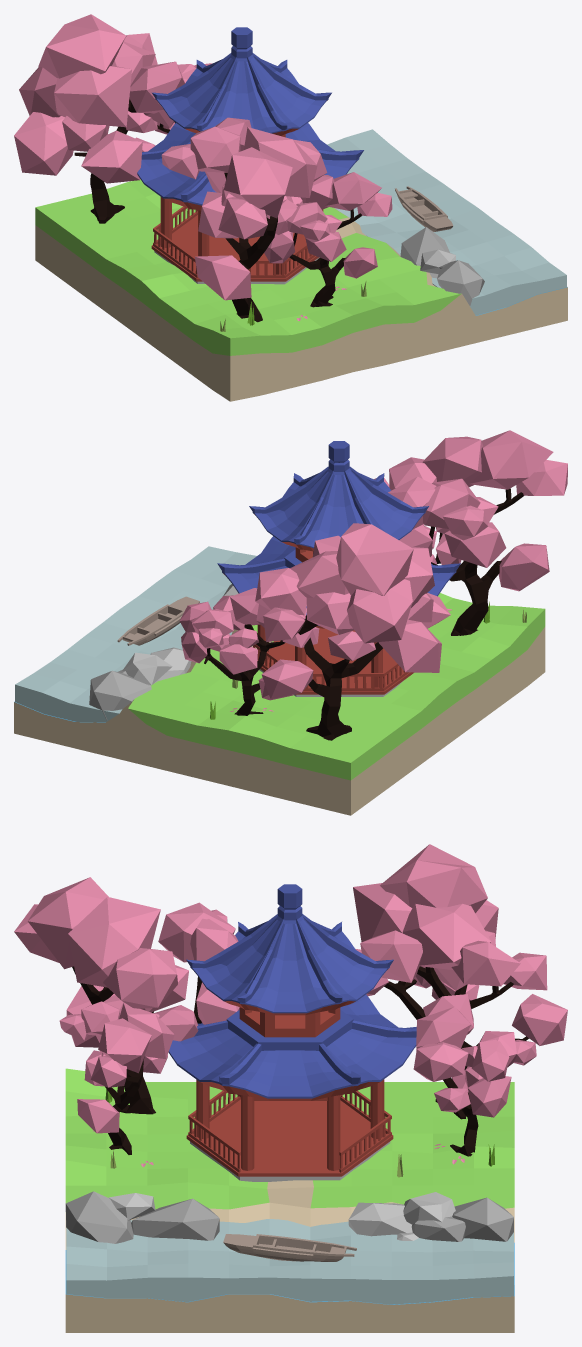
File: Spring 1.fbx
3 renders of one model, top to bottom at view 1: azimuth 30°, elevation 25°; view 2: azimuth 150°, elevation 25°; view 3: azimuth 270°, elevation 25°, orthographic. The views are drawn at different scales.
Visible parts, largest first — view 1: Ground, Water, 07_Roof2F, 05_Roof1F, Tree01_Leaves_10, Tree01_Leaves_11, Tree02_Leaves_04, Tree01_Leaves_12, 01_Base1F, Tree01_Leaves_09, Tree02_Leaves_13, Tree02_Leaves_05 (+29 smaller); view 2: Ground, Water, 07_Roof2F, Tree01_Leaves_11, Tree01_Leaves_13, Tree02_Leaves_04, Tree01, 05_Roof1F, 01_Base1F, Tree02, Tree02_Leaves_13, Tree01_Leaves_12 (+27 smaller); view 3: Ground, Water, 05_Roof1F, 07_Roof2F, 01_Base1F, Tree02_Leaves_13, Tree01_Leaves_11, Tree01_Leaves_04, Tree02_Leaves_04, Tree02_Leaves_07, Rock_06, Boat (+41 smaller).
Part boxes in pixels (<box>): Ground: <box>35,179,567,401</box>; Water: <box>327,129,566,315</box>; 07_Roof2F: <box>152,27,331,135</box>; 05_Roof1F: <box>137,123,363,210</box>; Tree01_Leaves_10: <box>54,65,131,127</box>; Tree01_Leaves_11: <box>38,14,126,78</box>; Tree02_Leaves_04: <box>223,147,292,218</box>; Tree01_Leaves_12: <box>14,112,73,175</box>; 01_Base1F: <box>151,215,319,284</box>; Tree01_Leaves_09: <box>81,130,142,183</box>; Tree02_Leaves_13: <box>244,127,317,197</box>; Tree02_Leaves_05: <box>195,255,251,300</box>; Ground: <box>14,593,545,815</box>; Water: <box>15,546,256,722</box>; 07_Roof2F: <box>249,441,428,551</box>; Tree01_Leaves_11: <box>336,523,413,595</box>; Tree01_Leaves_13: <box>347,579,412,643</box>; Tree02_Leaves_04: <box>469,430,553,489</box>; Tree01: <box>298,615,382,740</box>; 05_Roof1F: <box>217,536,460,628</box>; 01_Base1F: <box>259,628,413,696</box>; Tree02: <box>429,488,523,635</box>; Tree02_Leaves_13: <box>422,436,482,487</box>; Tree01_Leaves_12: <box>378,619,441,672</box>; Ground: <box>65,1068,514,1332</box>; Water: <box>66,1219,513,1304</box>; 05_Roof1F: <box>168,994,416,1100</box>; 07_Roof2F: <box>186,884,393,1015</box>; 01_Base1F: <box>186,1099,393,1181</box>; Tree02_Leaves_13: <box>68,897,160,987</box>; Tree01_Leaves_11: <box>380,844,487,913</box>; Tree01_Leaves_04: <box>402,903,491,969</box>; Tree02_Leaves_04: <box>27,877,108,969</box>; Tree02_Leaves_07: <box>103,948,177,1008</box>; Rock_06: <box>131,1198,219,1240</box>; Boat: <box>223,1234,356,1261</box>.
Size of what is drawn, in the model's own units: 116 by 77.51 by 123.
